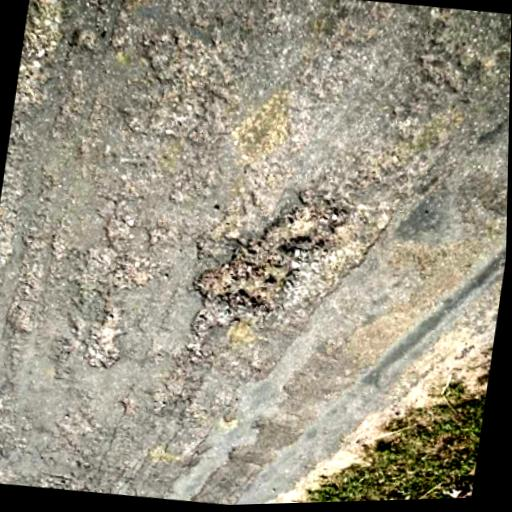pothole: (186, 181, 346, 323), (80, 311, 128, 374)
